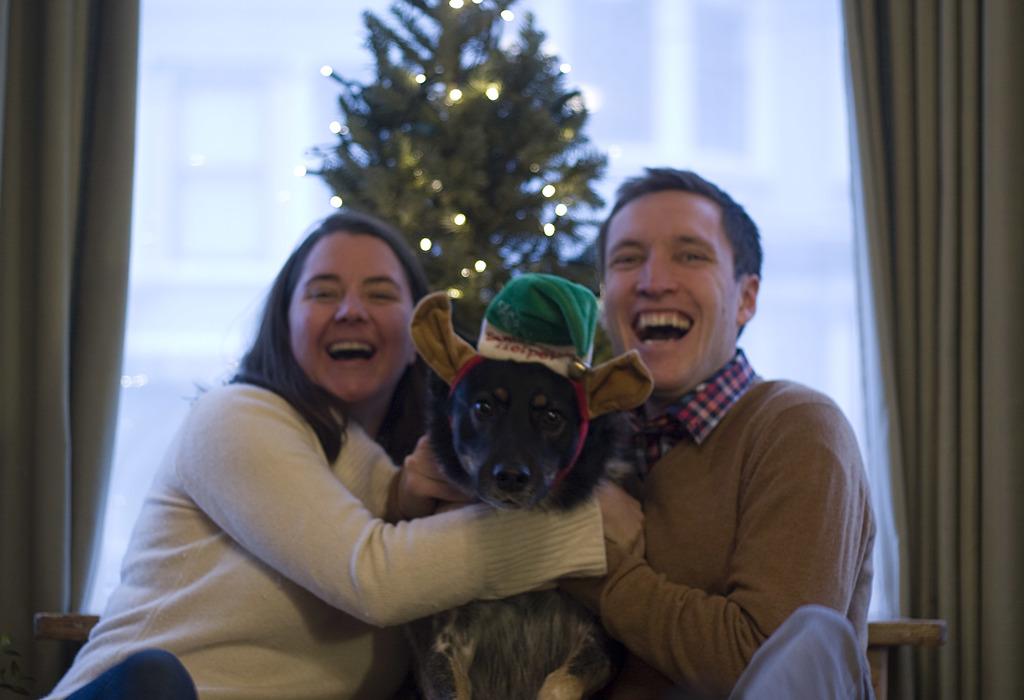Human-face: (595, 186, 739, 395), (288, 227, 414, 396)
